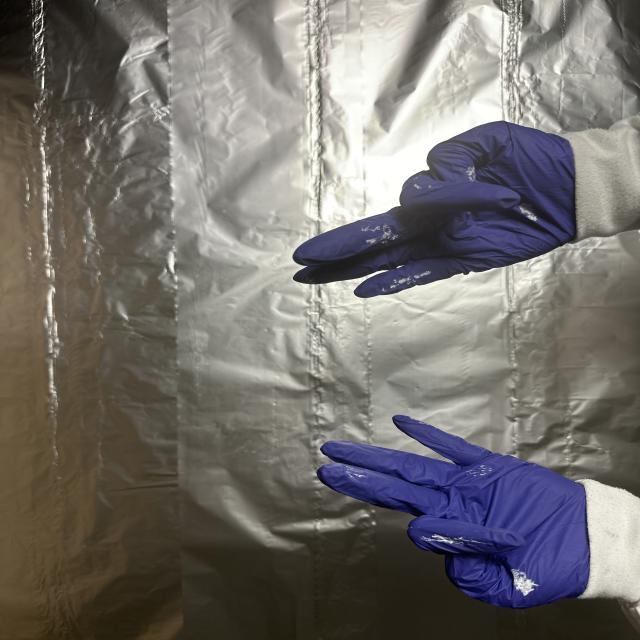gloves_contaminated: (318, 415, 590, 608), (294, 122, 576, 298)
